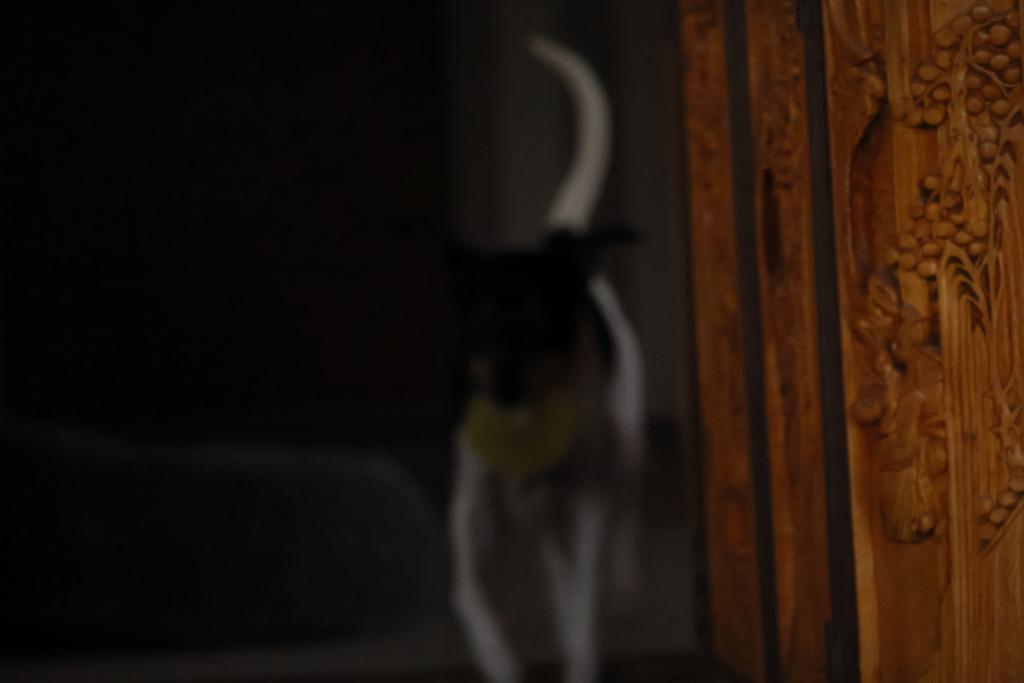Dog: (388, 27, 669, 683)
